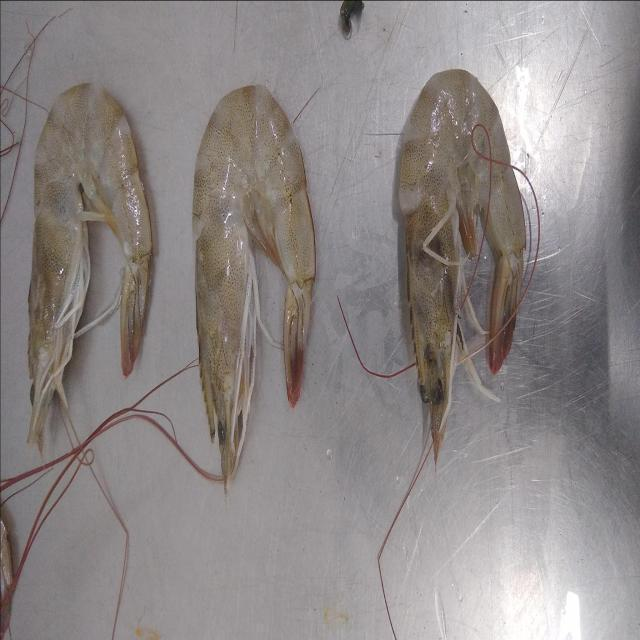shrimp: (192, 84, 315, 493), (399, 69, 525, 460), (28, 82, 151, 447)
